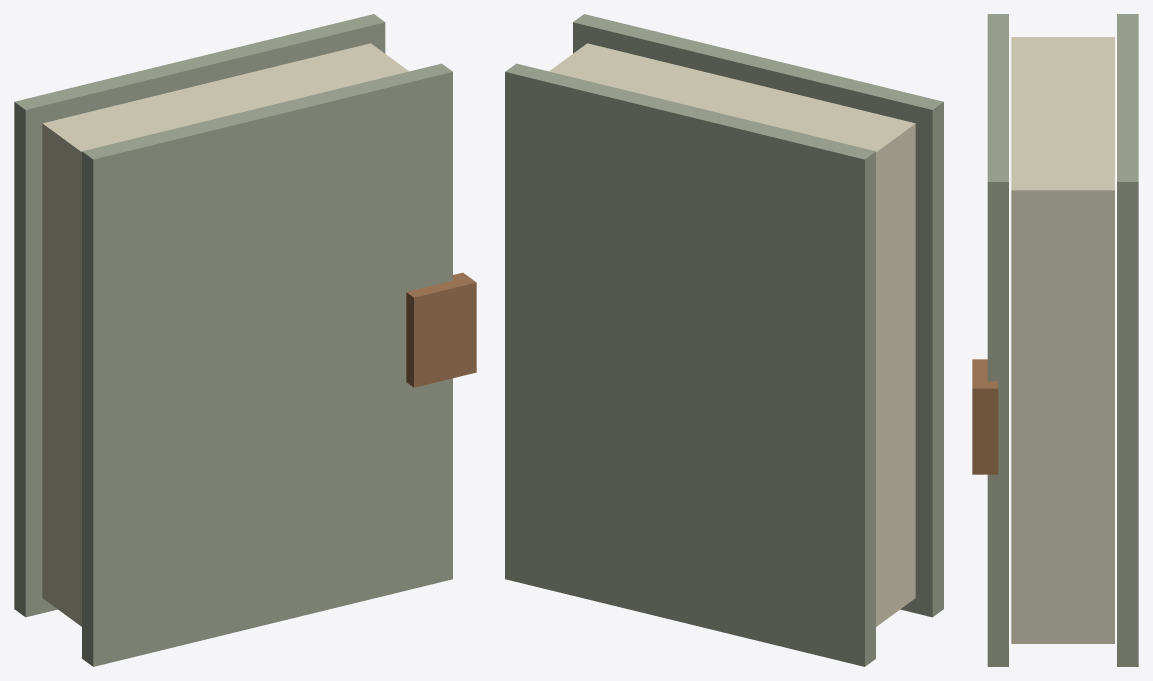
Rendered from field_journal.fbx.
The picture shows the model from 3 angles, left to right: view 1: azimuth 30°, elevation 25°; view 2: azimuth 150°, elevation 25°; view 3: azimuth 270°, elevation 25°; orthographic projection. The views are drawn at different scales.
Visible parts, largest first — view 1: cover_-1, pages, cover_1, clasp; view 2: cover_1, pages, cover_-1; view 3: pages, cover_1, cover_-1, clasp.
Boxes of the visible parts, x1,y1,x2,y2 form: cover_-1: (82,63,452,666); pages: (42,43,408,626); cover_1: (14,14,385,617); clasp: (406,272,476,387); cover_1: (505,63,875,666); pages: (549,43,915,626); cover_-1: (573,14,943,617); pages: (1011,37,1114,643); cover_1: (1117,14,1138,666); cover_-1: (987,14,1008,666); clasp: (972,359,998,474).
Size of the model in its own units: 48 by 62 by 19.25.
